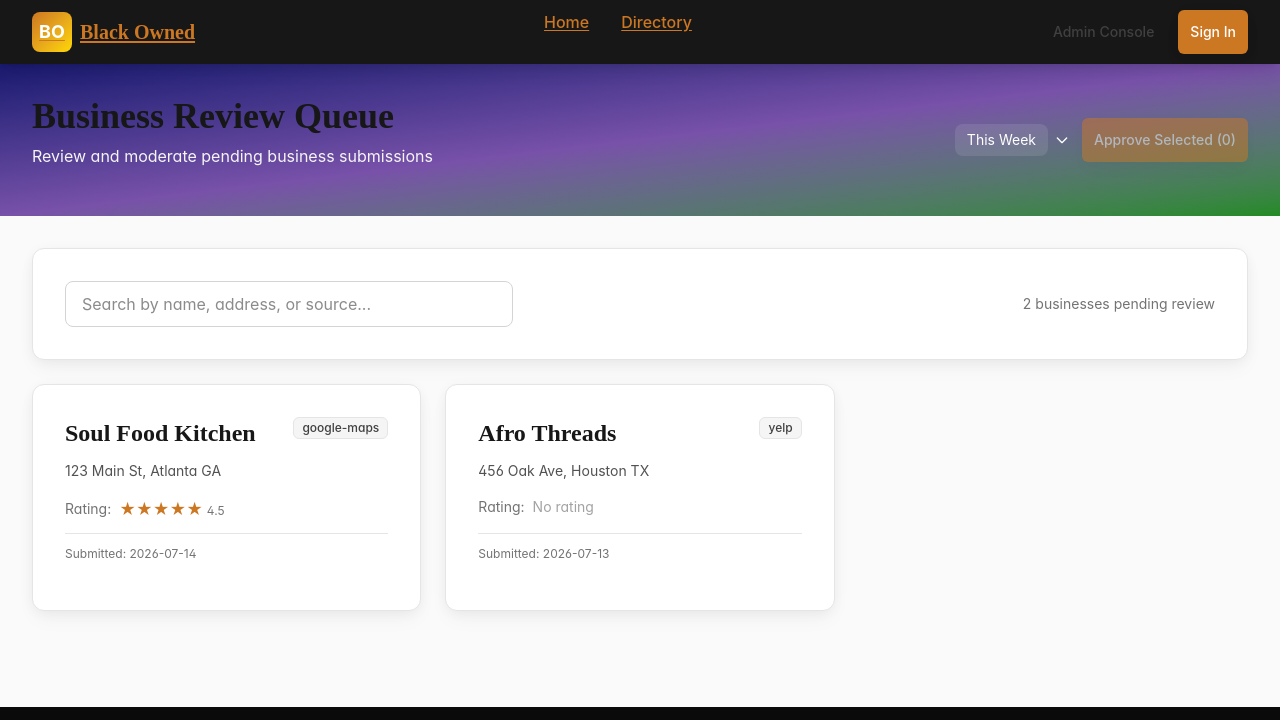
it: BusinessReviewPage › single-business decisions › rejects a business via POST /api/businesses/[id]/reject with the reason in the body
Step 1. Click the heading "Afro Threads" → (547, 433), box [478,417,616,449]
(page scrolled)
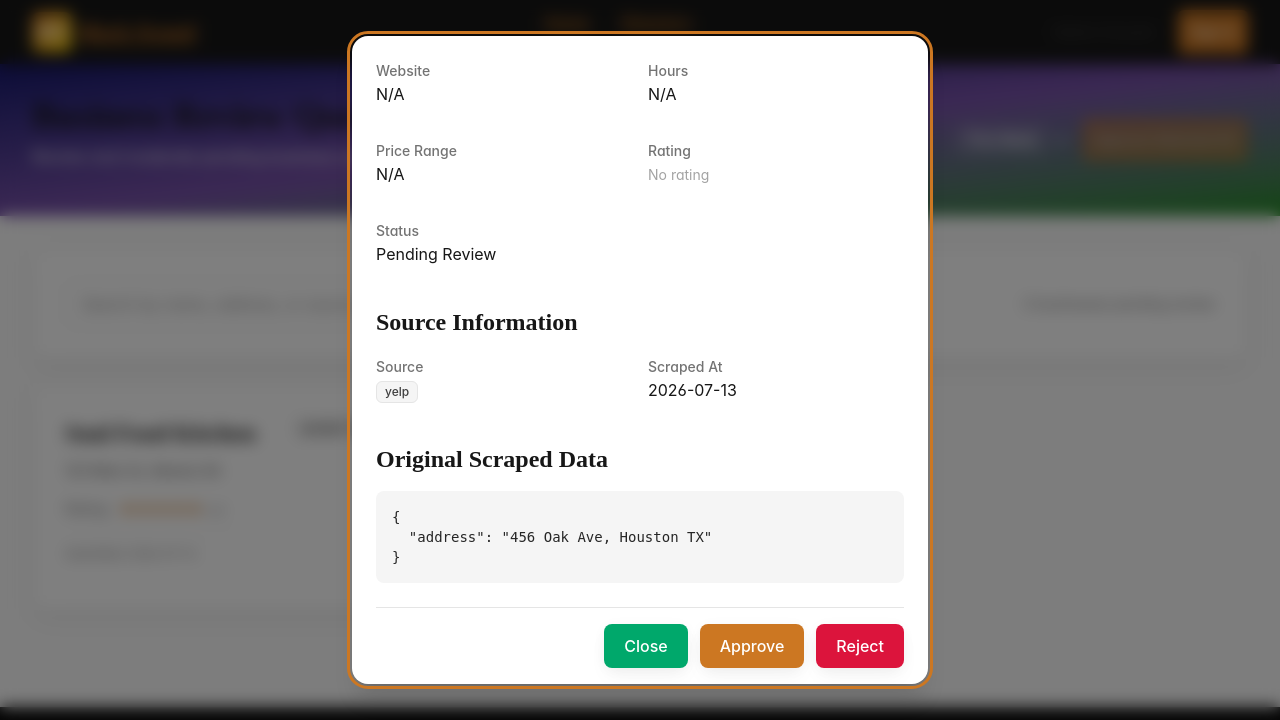
Result: the dialog is shown
Step 2. Click the button "Reject" → (860, 646), box [816,624,904,668]
(page scrolled)
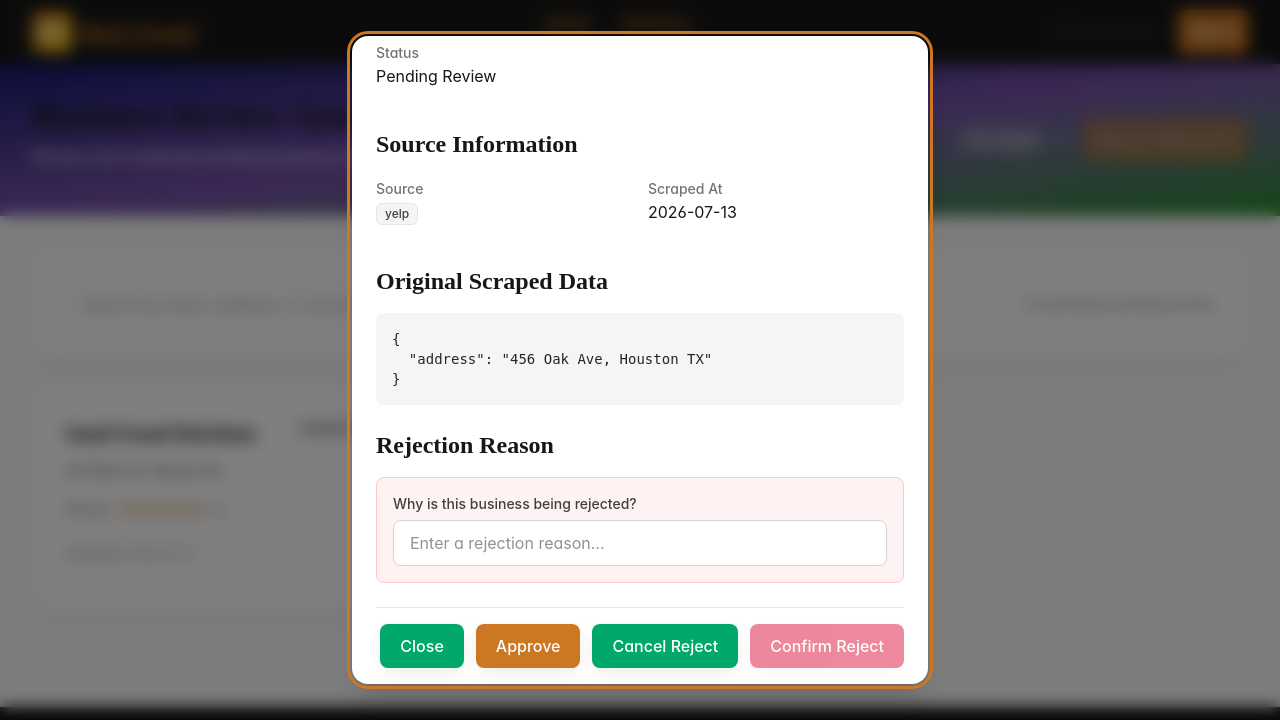
Step 3. Type "Unverified source" into the field with placeholder "Enter a rejection reason..." → (640, 543), box [393,520,887,566]
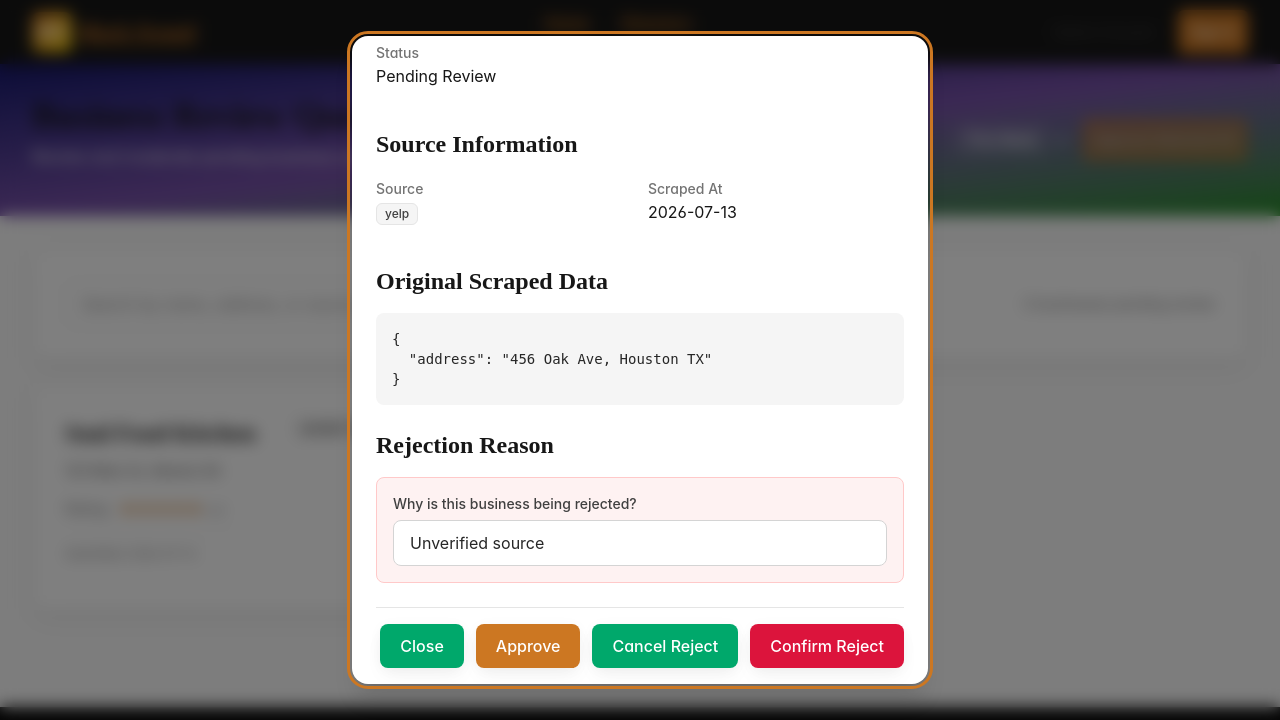
Step 4. Click the button "Confirm Reject" → (827, 646), box [750,624,904,668]
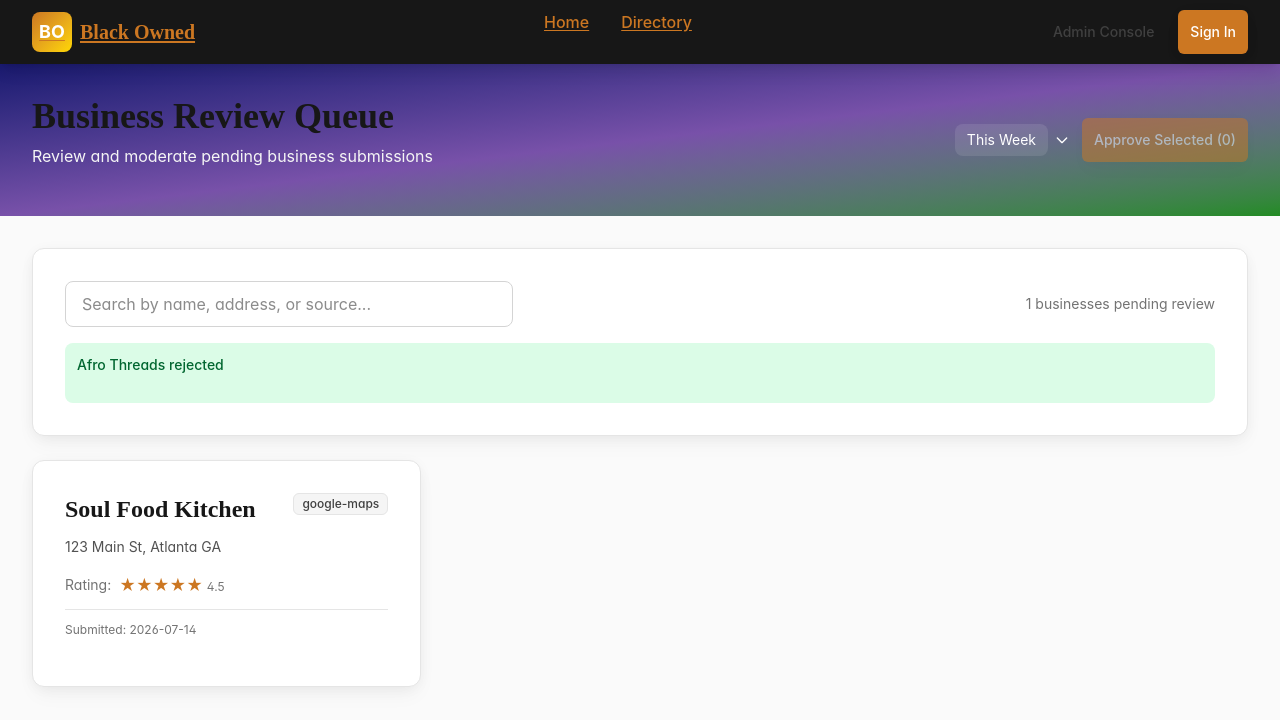
Result: the text "Afro Threads rejected" is shown at [77,356,224,373]
